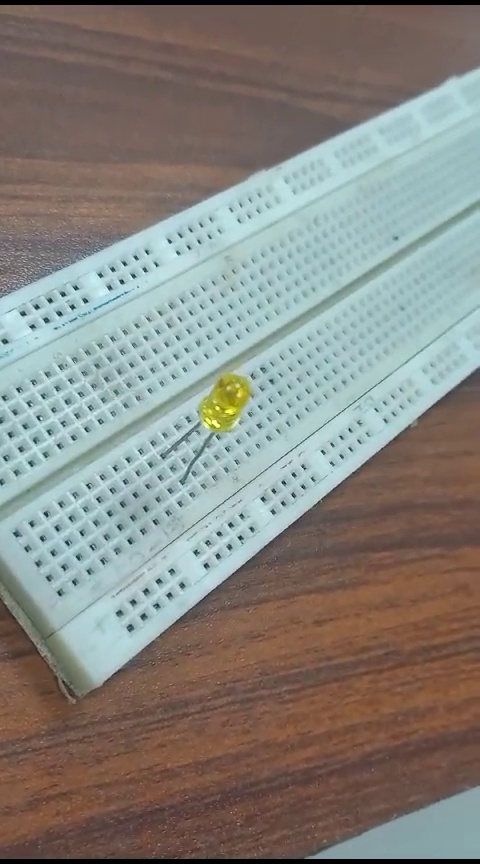LED: (176, 372, 254, 491)
